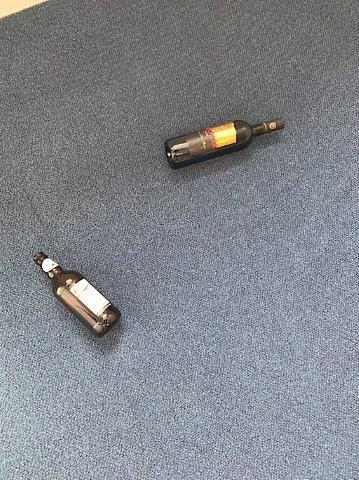botolkaca: (33, 251, 123, 337), (164, 117, 285, 169)
